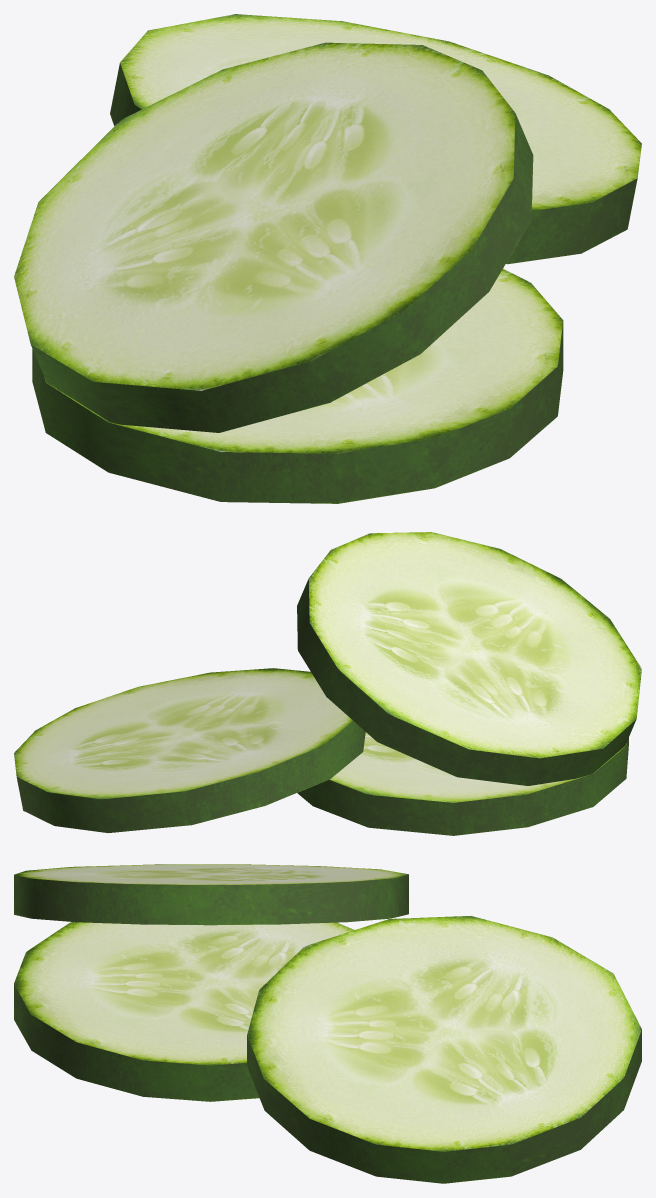
File: cucumber.glb
3 renders of one model, top to bottom at view 1: azimuth 30°, elevation 25°; view 2: azimuth 150°, elevation 25°; view 3: azimuth 270°, elevation 25°, orthographic. The views are drawn at different scales.
Parts seen in each view (by area): view 1: pCylinder4; view 2: pCylinder4; view 3: pCylinder4.
Part boxes in pixels (x1,y1,x2,y2): pCylinder4: [14, 14, 641, 503]; pCylinder4: [14, 532, 641, 835]; pCylinder4: [14, 864, 641, 1183].
Size of the model in its own units: 0.0834 by 0.0305 by 0.0867.
1 material, 1 textured.
